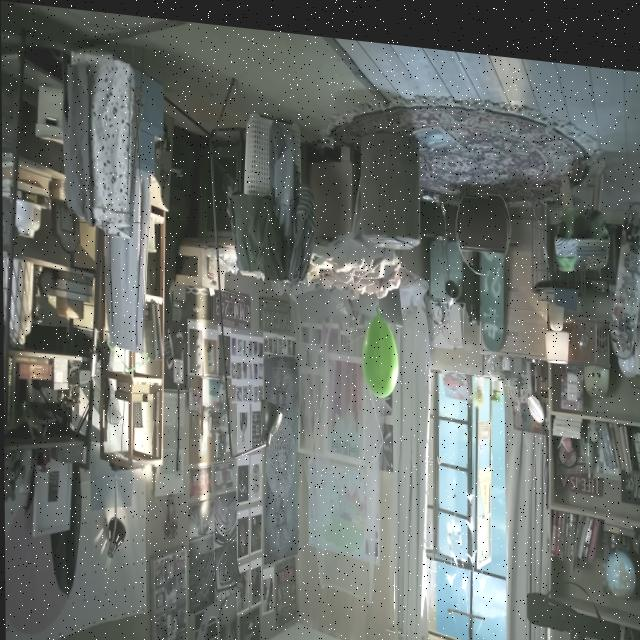balloon: (360, 300, 396, 387)
